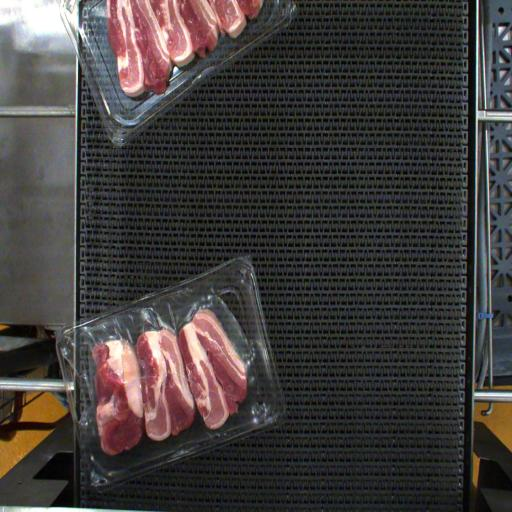unsealed: (84, 315, 271, 490)
